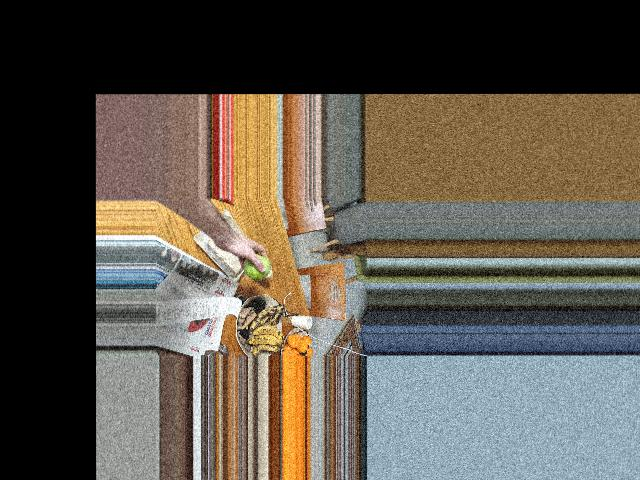apple: (243, 252, 270, 279)
